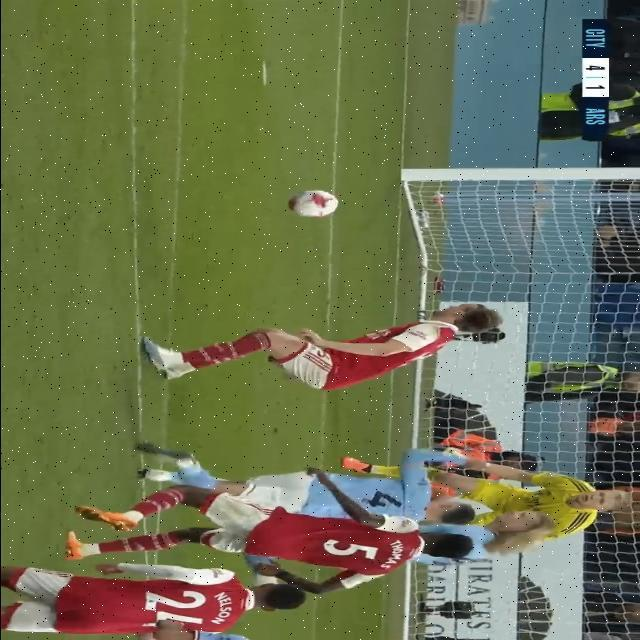ball: (283, 191, 347, 221)
goalkeeper: (495, 463, 631, 529)
player: (127, 283, 513, 403), (98, 513, 453, 600), (138, 449, 493, 529), (29, 565, 329, 640)
